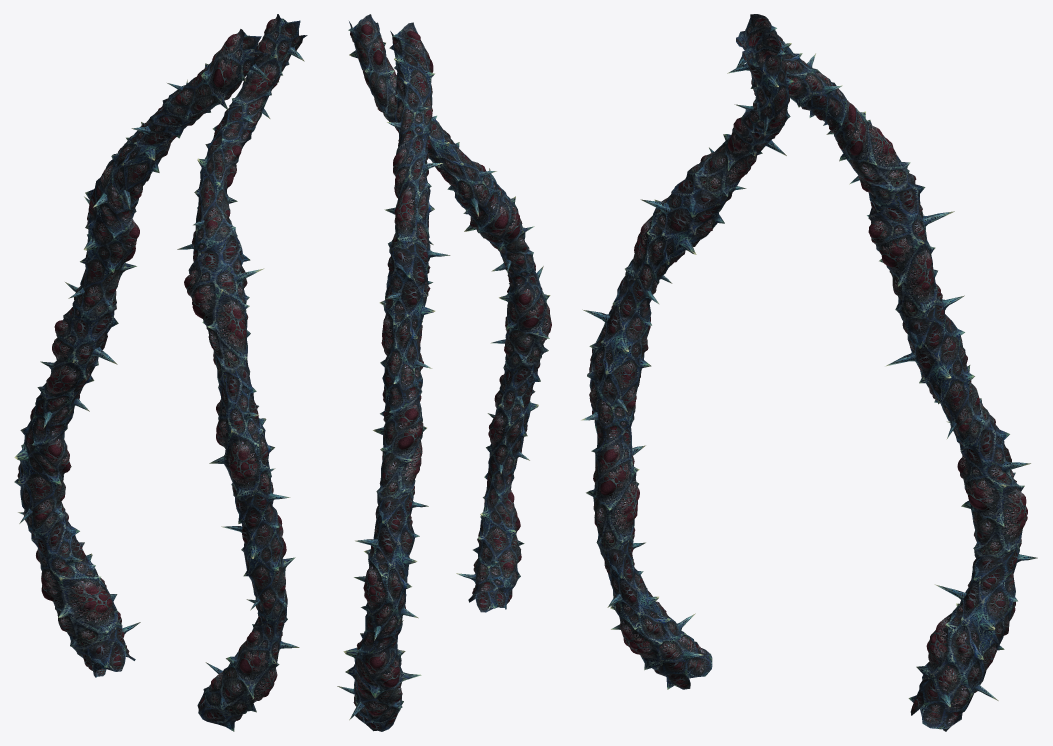
The model's file is backup.fbx.
3 renders of one model, left to right at view 1: azimuth 30°, elevation 25°; view 2: azimuth 150°, elevation 25°; view 3: azimuth 270°, elevation 25°, orthographic. The views are drawn at different scales.
Visible parts, largest first — view 1: LODGroup_1_MainMesh_1_SubMesh_1; view 2: LODGroup_1_MainMesh_1_SubMesh_1; view 3: LODGroup_1_MainMesh_1_SubMesh_1.
Boxes of the visible parts, x1=… form: LODGroup_1_MainMesh_1_SubMesh_1: x1=14, y1=14, x2=307, y2=731; LODGroup_1_MainMesh_1_SubMesh_1: x1=337, y1=14, x2=551, y2=731; LODGroup_1_MainMesh_1_SubMesh_1: x1=581, y1=14, x2=1037, y2=731.
Bounding box in the file's own units: 295 × 1091 × 607.
